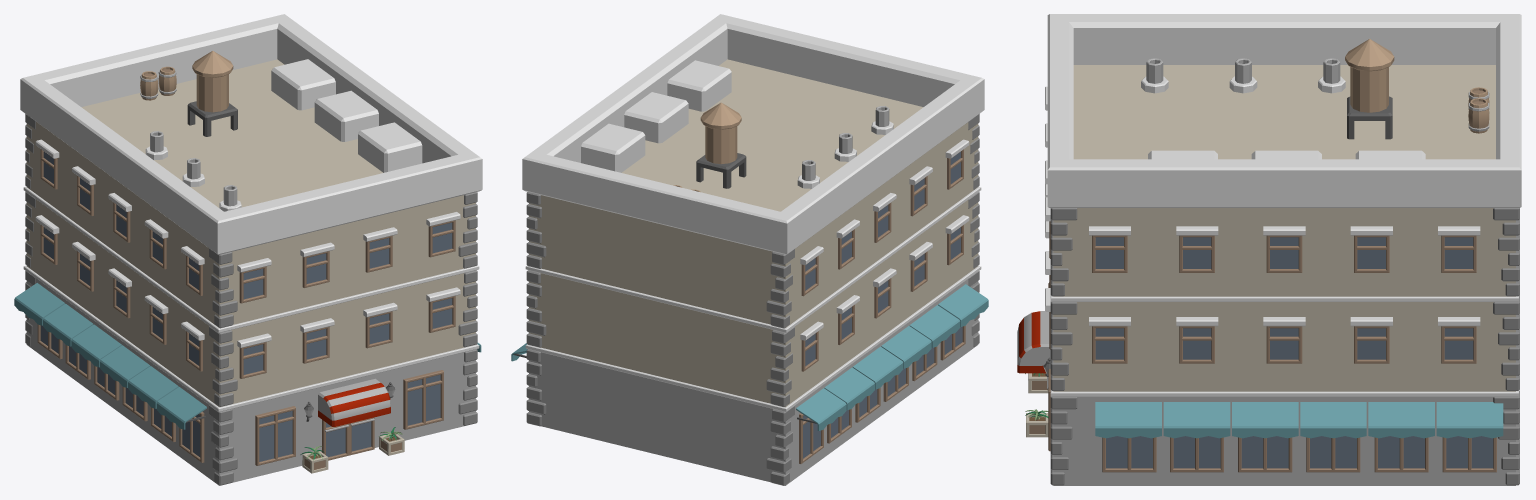
File: casa_3_alturas_a.fbx
3 views of the same model, side by side, from view 1: azimuth 30°, elevation 25°; view 2: azimuth 150°, elevation 25°; view 3: azimuth 270°, elevation 25° (orthographic). The views are drawn at different scales.
Visible parts, largest first — view 1: CASA_3_alturas, ladrillos, toldo_3, ventana_11, ventana_8, puerta_6, toldo_15, toldo_13, toldo_12, toldo_14, toldo_10, toldo_11 (+27 smaller); view 2: CASA_3_alturas, ladrillos, toldo_10, toldo_12, toldo_14, toldo_11, toldo_13, toldo_15, ventana_31, ventana_42, ventana_45, ventana_48 (+11 smaller); view 3: CASA_3_alturas, ladrillos, toldo_5, toldo_9, toldo_7, toldo_8, toldo_4, toldo_6, ventana_25, ventana_28, ventana_29, ventana_27 (+15 smaller).
Part boxes in pixels (x1=…): CASA_3_alturas: x1=20, y1=14, x2=482, y2=485; ladrillos: x1=25, y1=51, x2=477, y2=485; toldo_3: x1=318, y1=378, x2=390, y2=426; ventana_11: x1=403, y1=370, x2=443, y2=429; ventana_8: x1=255, y1=406, x2=295, y2=465; puerta_6: x1=322, y1=417, x2=374, y2=460; toldo_15: x1=156, y1=387, x2=206, y2=429; toldo_13: x1=99, y1=345, x2=150, y2=387; toldo_12: x1=71, y1=324, x2=121, y2=367; toldo_14: x1=128, y1=366, x2=178, y2=408; toldo_10: x1=14, y1=283, x2=64, y2=325; toldo_11: x1=43, y1=303, x2=93, y2=346; CASA_3_alturas: x1=522, y1=14, x2=984, y2=485; ladrillos: x1=526, y1=60, x2=979, y2=485; toldo_10: x1=796, y1=388, x2=846, y2=430; toldo_12: x1=852, y1=346, x2=903, y2=389; toldo_14: x1=909, y1=305, x2=960, y2=347; toldo_11: x1=824, y1=367, x2=874, y2=410; toldo_13: x1=881, y1=326, x2=931, y2=368; toldo_15: x1=938, y1=284, x2=988, y2=326; ventana_31: x1=799, y1=413, x2=823, y2=463; ventana_42: x1=910, y1=251, x2=927, y2=291; ventana_45: x1=801, y1=331, x2=818, y2=371; ventana_48: x1=874, y1=202, x2=891, y2=242; CASA_3_alturas: x1=1047, y1=14, x2=1521, y2=485; ladrillos: x1=1045, y1=39, x2=1519, y2=485; toldo_5: x1=1163, y1=402, x2=1230, y2=438; toldo_9: x1=1436, y1=402, x2=1503, y2=438; toldo_7: x1=1300, y1=402, x2=1366, y2=438; toldo_8: x1=1368, y1=402, x2=1434, y2=438; toldo_4: x1=1095, y1=402, x2=1161, y2=438; toldo_6: x1=1232, y1=402, x2=1298, y2=438; ventana_25: x1=1102, y1=436, x2=1156, y2=472; ventana_28: x1=1306, y1=436, x2=1360, y2=472; ventana_29: x1=1374, y1=436, x2=1428, y2=472; ventana_27: x1=1238, y1=436, x2=1292, y2=472.
Size of the model in its own units: 1178 by 1148 by 1417.
